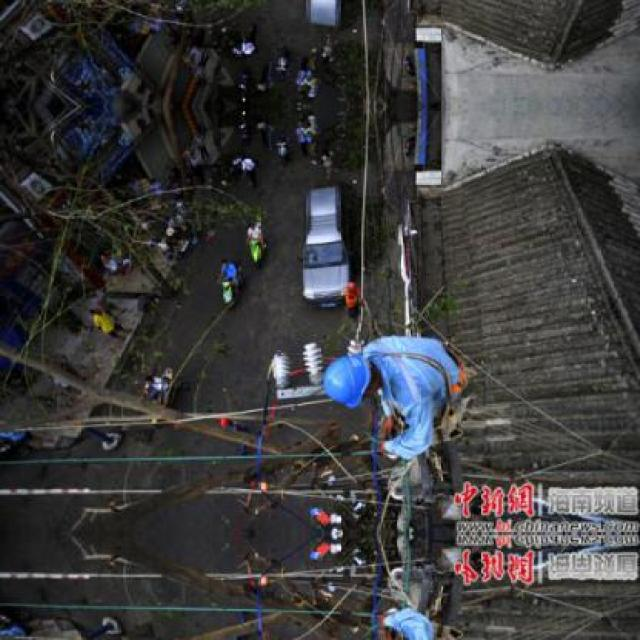helmet: (314, 350, 375, 416)
